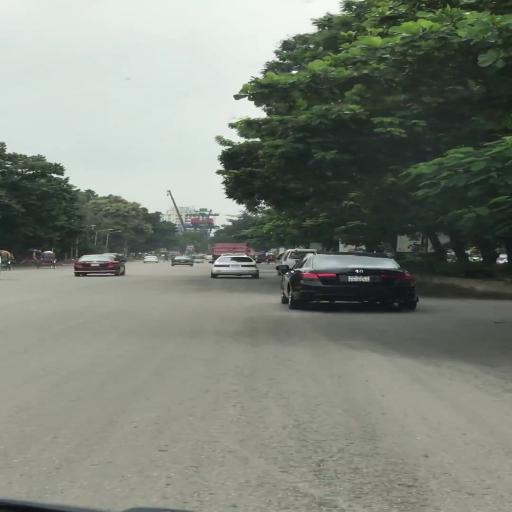car: (280, 255, 417, 311), (75, 254, 128, 278), (212, 256, 261, 279), (172, 256, 195, 268), (143, 256, 160, 265)
minivan: (281, 250, 300, 268)
rickshaw: (37, 251, 60, 271), (1, 250, 16, 273), (266, 254, 278, 266)
three wheelers CNG: (194, 256, 205, 264)
truck: (212, 243, 252, 255)
